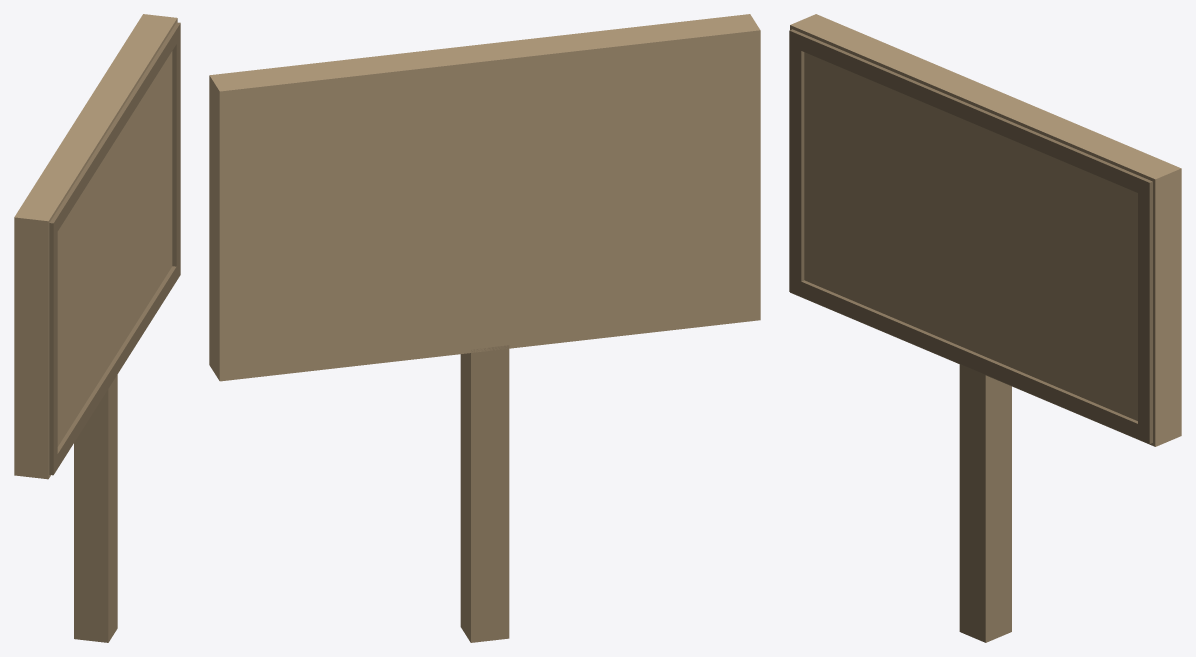
The model's file is sign_spruce_diag.gltf.
3 views of the same model, side by side, from view 1: azimuth 30°, elevation 25°; view 2: azimuth 150°, elevation 25°; view 3: azimuth 270°, elevation 25° (orthographic). The views are drawn at different scales.
Parts seen in each view (by area): view 1: sign_spruce_diag; view 2: sign_spruce_diag; view 3: sign_spruce_diag.
Part boxes in pixels (bbox=[...]): sign_spruce_diag: bbox=[14, 14, 180, 642]; sign_spruce_diag: bbox=[209, 14, 760, 642]; sign_spruce_diag: bbox=[789, 14, 1181, 642].
Bounding box in the file's own units: 0.664 × 1 × 0.664.
